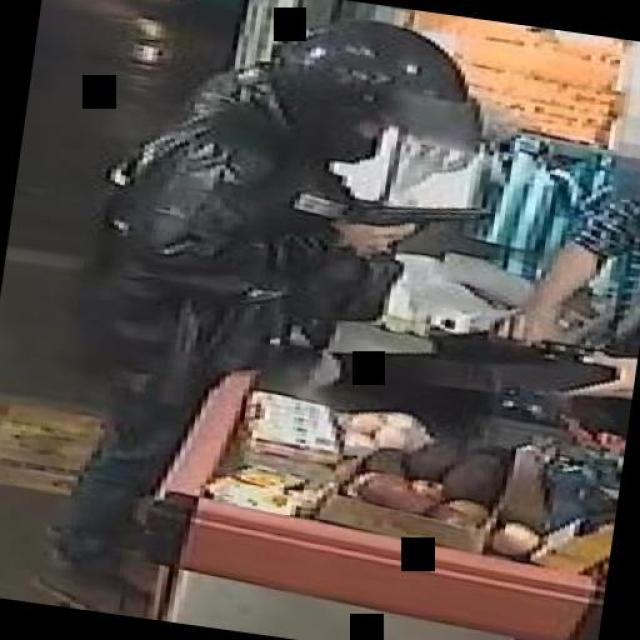gun: (334, 185, 496, 265)
